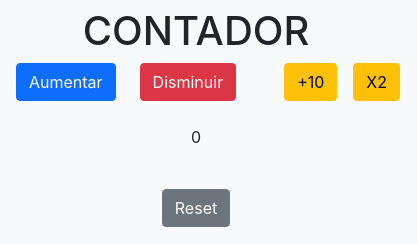
it: buttons function › when press disminuir, the counter must substract 1
Click the button with test id "disminuir": {"x": 188, "y": 82} x1=140 y1=63 x2=236 y2=101
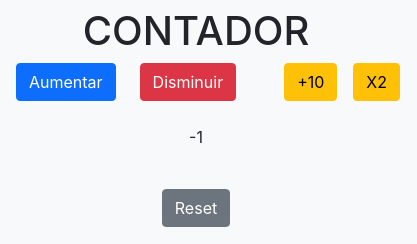
Result: the text with test id "contador" reads "-1" at x1=189 y1=127 x2=203 y2=147
